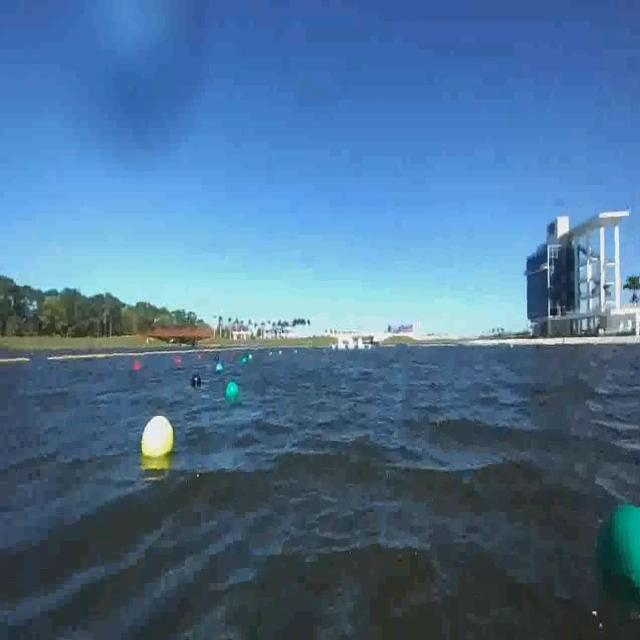black-buoy: (190, 374, 200, 388)
green-buoy: (596, 501, 640, 608), (226, 379, 240, 400)
yellow-buoy: (141, 417, 174, 460)
